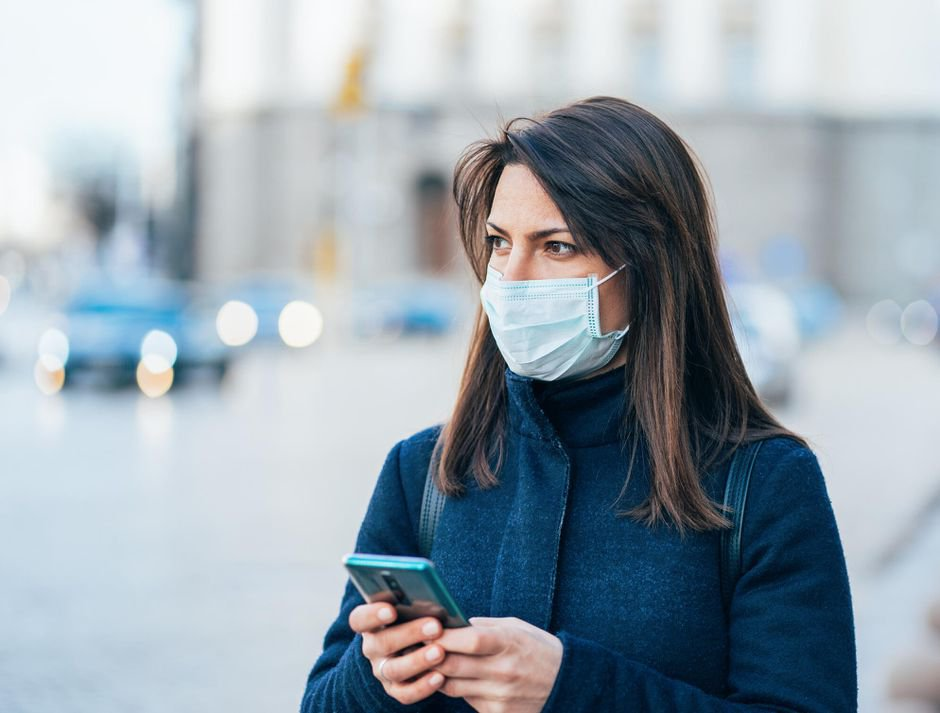mask: (439, 108, 713, 389)
